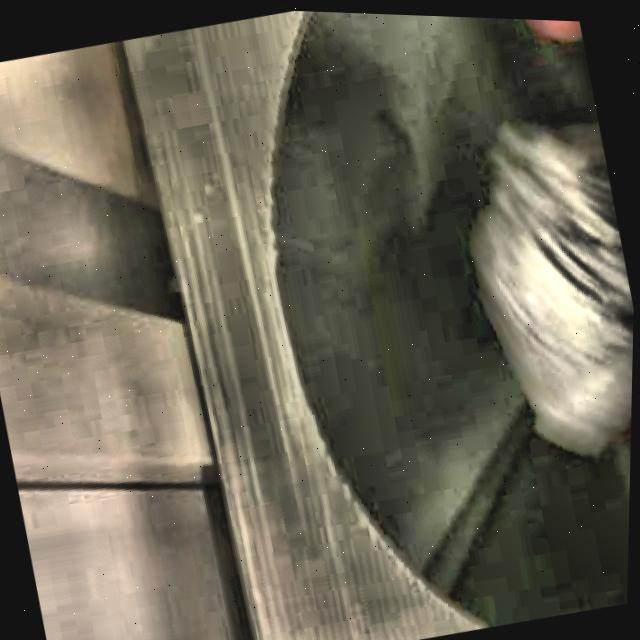metal: (474, 118, 635, 444)
